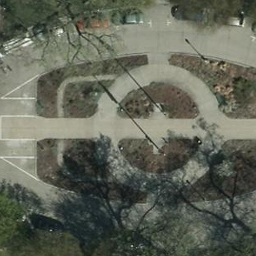car: (31, 209, 65, 243), (34, 16, 65, 46), (76, 11, 111, 33), (208, 11, 246, 28), (1, 31, 29, 54), (169, 7, 198, 28), (117, 9, 144, 26)
